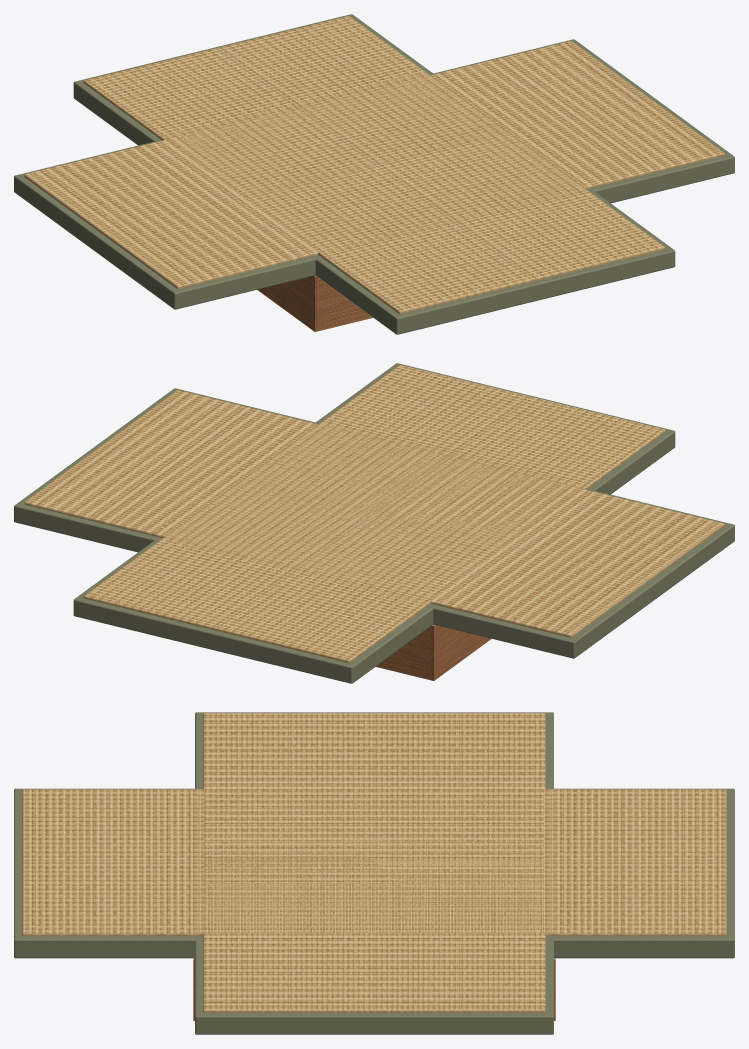
The model's file is piso-modular.glb.
The picture shows the model from 3 angles, top to bottom: view 1: azimuth 30°, elevation 25°; view 2: azimuth 150°, elevation 25°; view 3: azimuth 270°, elevation 25°; orthographic projection. The views are drawn at different scales.
Parts seen in each view (by area): view 1: Palha.003, Palha.002, Palha, Faixa.002, Faixa.003, Base; view 2: Palha.003, Palha.002, Palha, Faixa.002, Faixa.003, Base; view 3: Palha.002, Palha.003, Palha, Faixa.003, Faixa.002.
Boxes of the visible parts, <box> form: Palha.003: <box>83,16,665,313</box>; Palha.002: <box>24,41,724,288</box>; Palha: <box>168,75,581,249</box>; Faixa.002: <box>14,39,734,309</box>; Faixa.003: <box>73,14,675,334</box>; Base: <box>257,275,372,331</box>; Palha.003: <box>83,365,665,662</box>; Palha.002: <box>24,390,724,637</box>; Palha: <box>167,424,581,598</box>; Faixa.002: <box>14,388,734,658</box>; Faixa.003: <box>73,363,675,683</box>; Base: <box>376,624,491,680</box>; Palha.002: <box>203,713,545,1012</box>; Palha.003: <box>22,789,726,936</box>; Palha: <box>204,789,544,932</box>; Faixa.003: <box>14,788,734,958</box>; Faixa.002: <box>195,712,553,1034</box>.
Size of the model in its own units: 1.59 by 0.203 by 1.59.
Materials: 3 (2 with a texture image).
